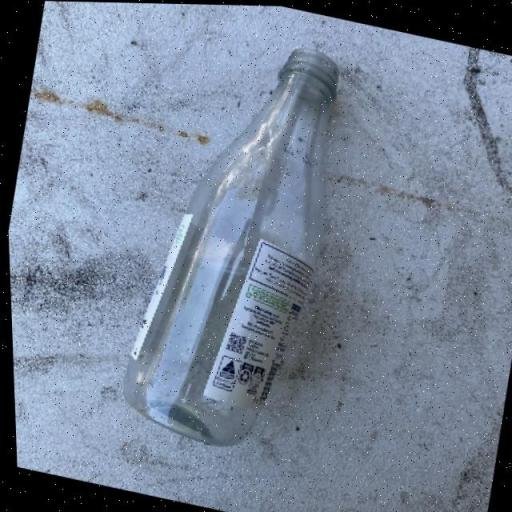plastic: (100, 17, 363, 461)
